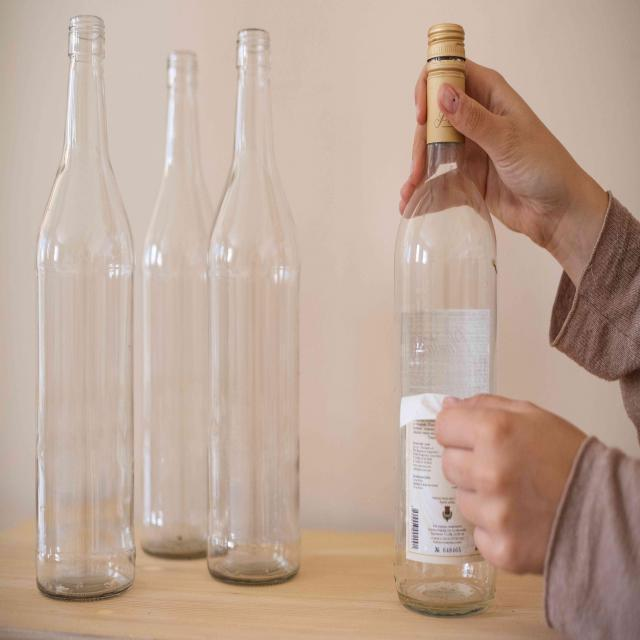glass: (33, 6, 141, 598)
